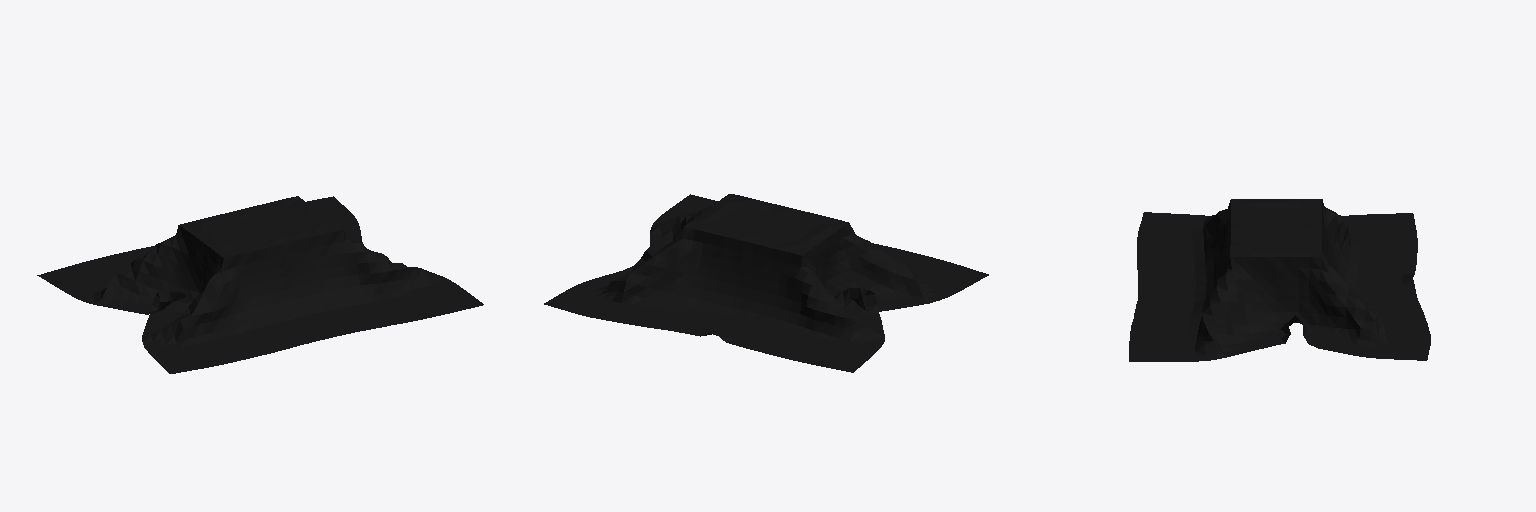
The model's file is seat.obj.
3 views of the same model, side by side, from view 1: azimuth 30°, elevation 25°; view 2: azimuth 150°, elevation 25°; view 3: azimuth 270°, elevation 25° (orthographic).
Parts seen in each view (by area): view 1: Plane_Plane.002; view 2: Plane_Plane.002; view 3: Plane_Plane.002.
Boxes of the visible parts, x1,y1,x2,y2 form: Plane_Plane.002: [37, 196, 483, 373]; Plane_Plane.002: [544, 194, 988, 372]; Plane_Plane.002: [1129, 199, 1430, 361].
Size of the model in its own units: 7.97 by 1.55 by 6.79.